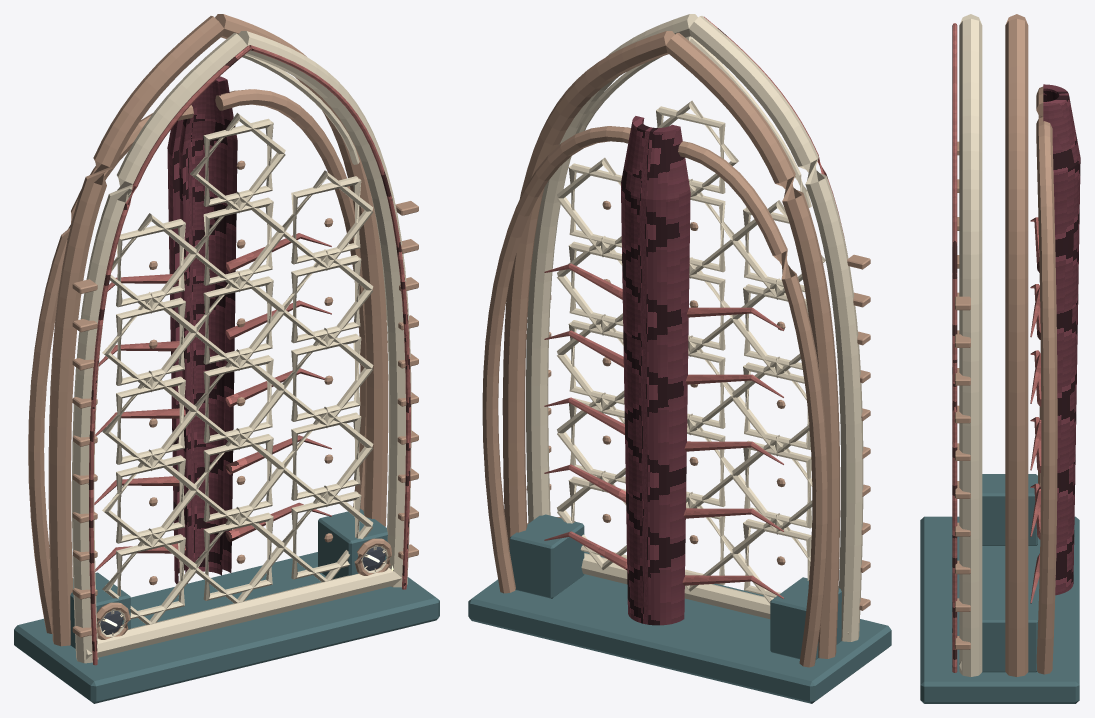
Rendered from intake_pressure_screen.glb.
The picture shows the model from 3 angles, left to right: view 1: azimuth 30°, elevation 25°; view 2: azimuth 150°, elevation 25°; view 3: azimuth 270°, elevation 25°; orthographic projection.
Parts seen in each view (by area): view 1: intake_pressure_screen_warm, intake_pressure_screen_worn, intake_pressure_screen_petrol, intake_pressure_screen_bruised, intake_pressure_screen_suture, intake_pressure_screen_deep; view 2: intake_pressure_screen_warm, intake_pressure_screen_worn, intake_pressure_screen_bruised, intake_pressure_screen_petrol, intake_pressure_screen_suture; view 3: intake_pressure_screen_worn, intake_pressure_screen_petrol, intake_pressure_screen_warm, intake_pressure_screen_bruised, intake_pressure_screen_suture.
Part boxes in pixels (x1=…): intake_pressure_screen_warm: x1=72, y1=31, x2=411, y2=663; intake_pressure_screen_worn: x1=28, y1=14, x2=418, y2=646; intake_pressure_screen_petrol: x1=14, y1=509, x2=439, y2=703; intake_pressure_screen_bruised: x1=167, y1=76, x2=237, y2=584; intake_pressure_screen_suture: x1=88, y1=45, x2=410, y2=665; intake_pressure_screen_deep: x1=98, y1=546, x2=385, y2=634; intake_pressure_screen_warm: x1=526, y1=14, x2=863, y2=641; intake_pressure_screen_worn: x1=482, y1=31, x2=870, y2=667; intake_pressure_screen_bruised: x1=621, y1=116, x2=690, y2=625; intake_pressure_screen_petrol: x1=468, y1=514, x2=891, y2=703; intake_pressure_screen_suture: x1=544, y1=16, x2=844, y2=598; intake_pressure_screen_worn: x1=955, y1=14, x2=1057, y2=676; intake_pressure_screen_petrol: x1=920, y1=474, x2=1079, y2=703; intake_pressure_screen_warm: x1=959, y1=14, x2=982, y2=676; intake_pressure_screen_bruised: x1=1043, y1=84, x2=1080, y2=595; intake_pressure_screen_suture: x1=952, y1=23, x2=1041, y2=672.
Bounding box in the file's own units: 4.5 × 7.54 × 1.81.
Materials: 7 (2 with a texture image).
